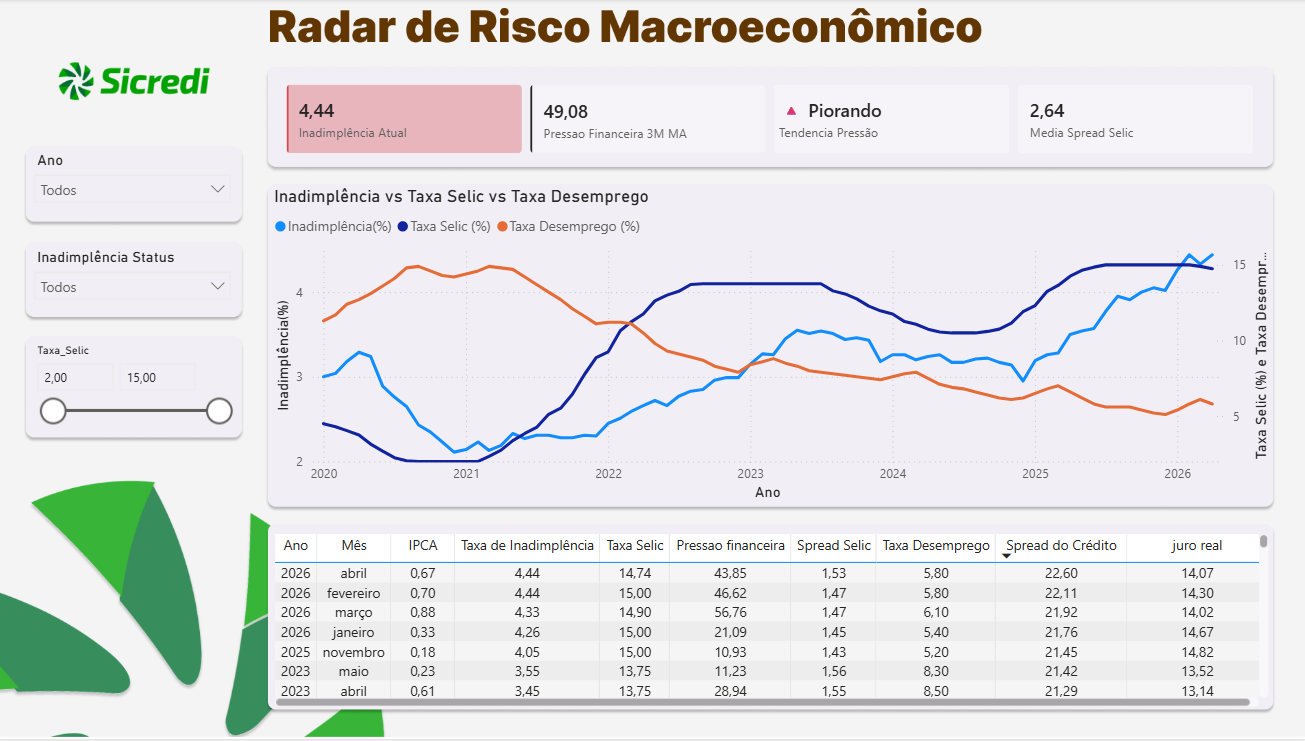

The dashboard page shown, as its layout file describes it:
{"tool":"powerbi","page":{"name":"Página 1","canvas":[1280,720],"ordinal":0},"visuals":[{"type":"cardVisual","fields":{"Data":["dados.Inadimplencia_Atual","dados.Pressao_Financeira_3M_MA","dados.Tendencia_Pressao","dados.Media_Spread_Selic"]},"box":[266.5,66.1,976.5,101.2],"z":0},{"type":"slicer","fields":{"Values":["dados.ano"]},"box":[28.2,143,211.1,75.9],"z":1000},{"type":"lineChart","title":"Inadimplência vs Taxa Selic vs Taxa Desemprego","fields":{"Y":["Avg(dados.Taxa_de_Inadimplência)"],"Category":["dados.data.Variation.Hierarquia de datas.Ano","dados.data.Variation.Hierarquia de datas.Trimestre","dados.data.Variation.Hierarquia de datas.Mês","dados.data.Variation.Hierarquia de datas.Dia"],"Y2":["Avg(dados.Taxa_Selic)","Sum(dados.Taxa_Desemprego)"]},"box":[266.5,181.9,976.5,311.2],"z":2000},{"type":"tableEx","fields":{"Values":["dados.data.Variation.Hierarquia de datas.Ano","dados.data.Variation.Hierarquia de datas.Mês","dados.IPCA","Sum(dados.Taxa_de_Inadimplência)","Sum(dados.Taxa_Selic)","Sum(dados.pressao_financeira)","Sum(dados.Spread_Selic)","Sum(dados.Taxa_Desemprego)","Sum(dados.Spread_do_Crédito)","Sum(dados.juro_real)"]},"box":[266.5,515.5,976.5,178],"z":3000},{"type":"slicer","fields":{"Values":["dados.Status_ZScore_table"]},"box":[28.2,237.3,211.1,72],"z":4000},{"type":"slicer","fields":{"Values":["dados.Taxa_Selic"]},"box":[28.2,330.7,211.1,96.3],"z":5000}]}

Visuals, with their boxes in screenshot pixels (x1, y1, x2, y2), scaled from the page's 1280x720 canvas onto the 1305x741 screenshot:
cardVisual - dados.Inadimplencia_Atual x dados.Pressao_Financeira_3M_MA: select_region(272, 68, 1267, 172)
slicer - dados.ano: select_region(29, 147, 244, 225)
"Inadimplência vs Taxa Selic vs Taxa Desemprego" lineChart: select_region(272, 187, 1267, 507)
tableEx - dados.data.Variation.Hierarquia de datas.Ano x dados.data.Variation.Hierarquia de datas.Mês: select_region(272, 531, 1267, 714)
slicer - dados.Status_ZScore_table: select_region(29, 244, 244, 318)
slicer - dados.Taxa_Selic: select_region(29, 340, 244, 439)
